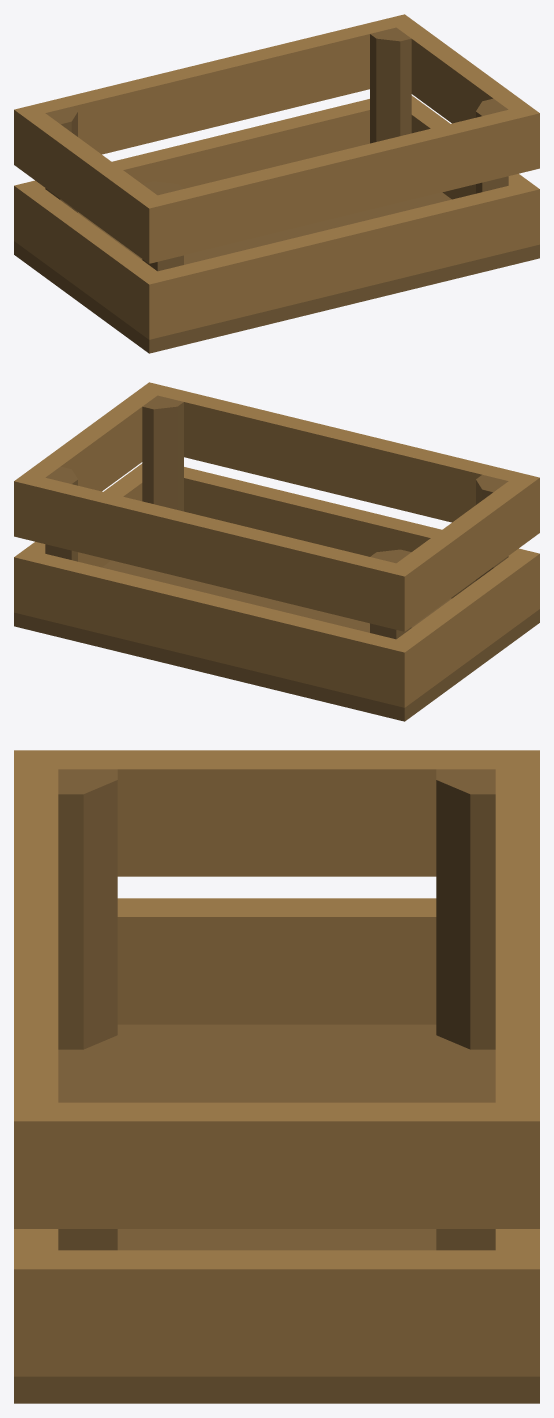
The model's file is BeerCrate.fbx.
3 renders of one model, top to bottom at view 1: azimuth 30°, elevation 25°; view 2: azimuth 150°, elevation 25°; view 3: azimuth 270°, elevation 25°, orthographic. The views are drawn at different scales.
Parts seen in each view (by area): view 1: Beer Crate; view 2: Beer Crate; view 3: Beer Crate.
Boxes of the visible parts, left/top/right/bottom form: Beer Crate: left=14, top=14, right=539, bottom=353; Beer Crate: left=14, top=382, right=539, bottom=721; Beer Crate: left=14, top=750, right=539, bottom=1403.
Bounding box in the file's own units: 27.89 × 9.9 × 16.72.
